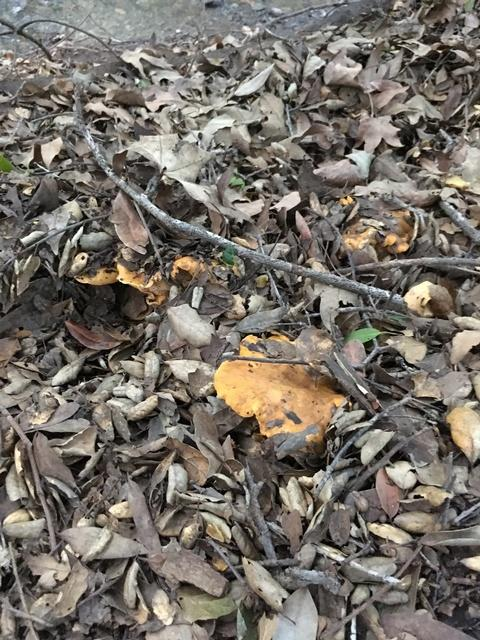edible_mushroom: (218, 332, 344, 449), (79, 260, 212, 305), (354, 212, 418, 253)
